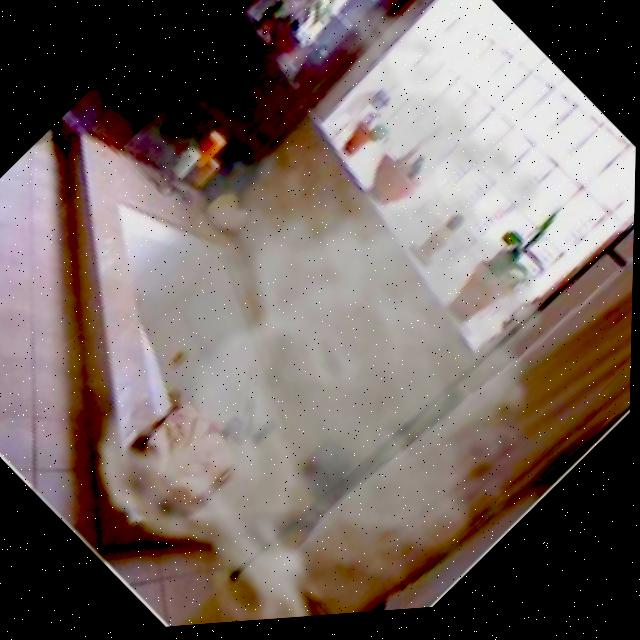Smoke: (0, 0, 635, 627)
